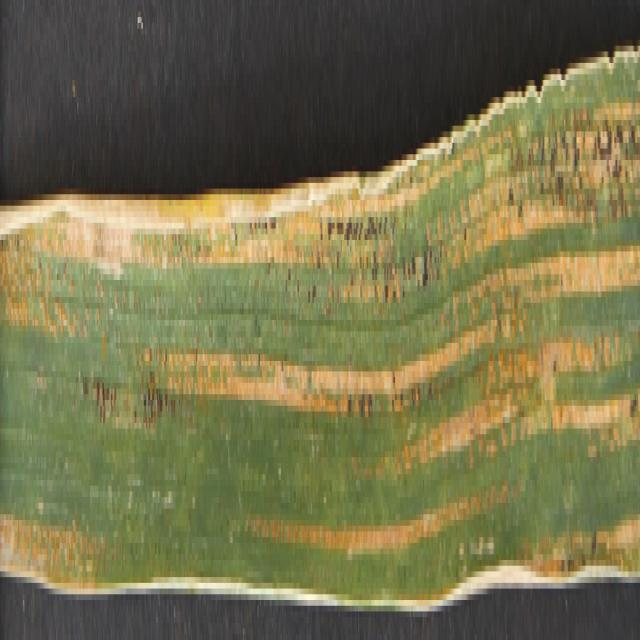leaf rust: (2, 51, 637, 612)
